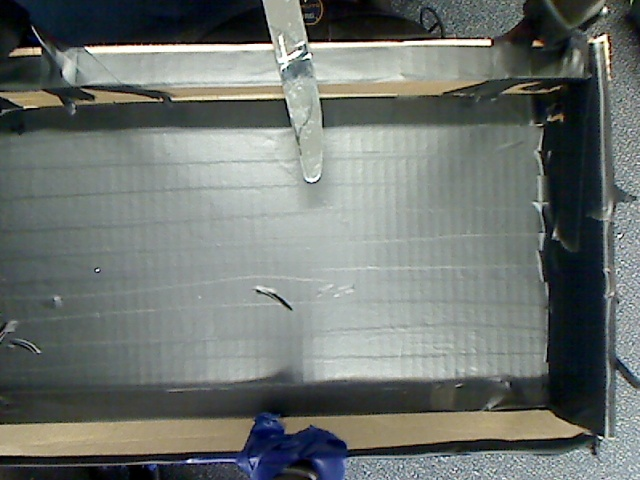knife: (250, 1, 342, 185)
